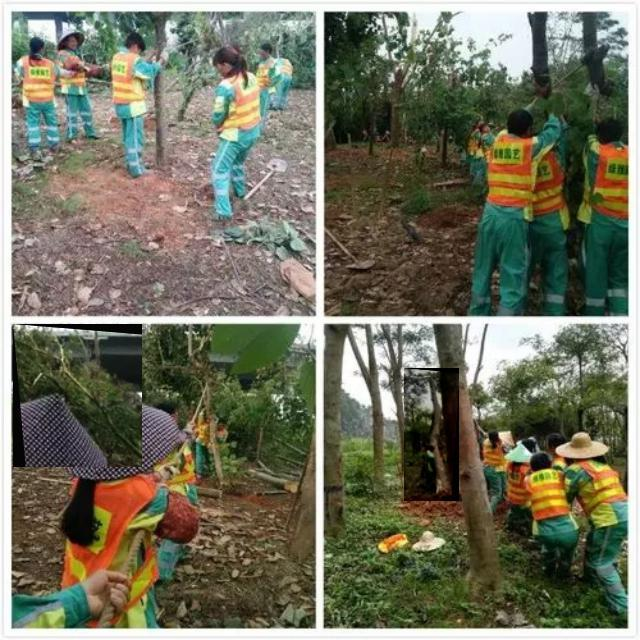fallen_tree: (13, 324, 143, 468), (404, 368, 460, 502)
